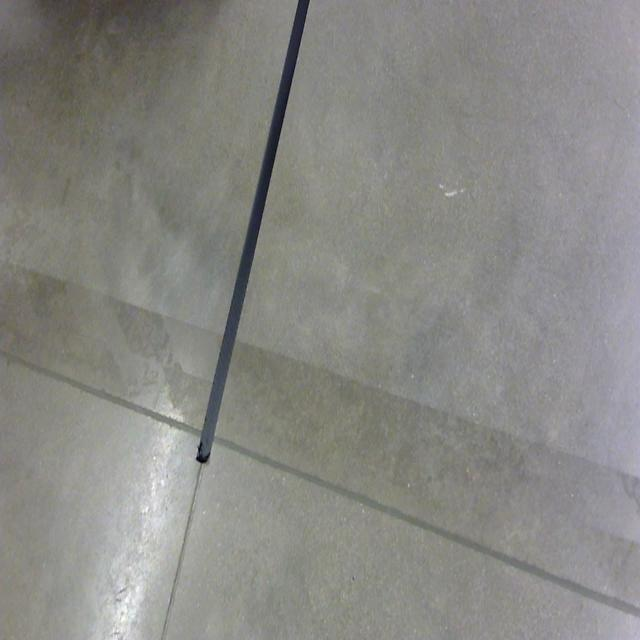tape: (198, 0, 312, 468)
